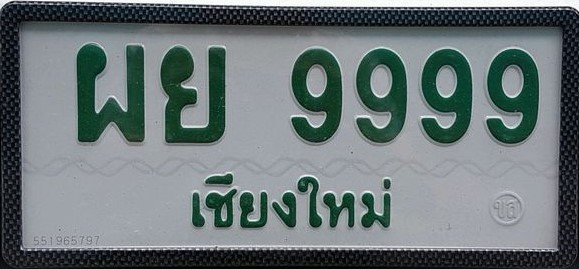txt23: (72, 39, 150, 147)
txt29: (157, 41, 229, 148)
